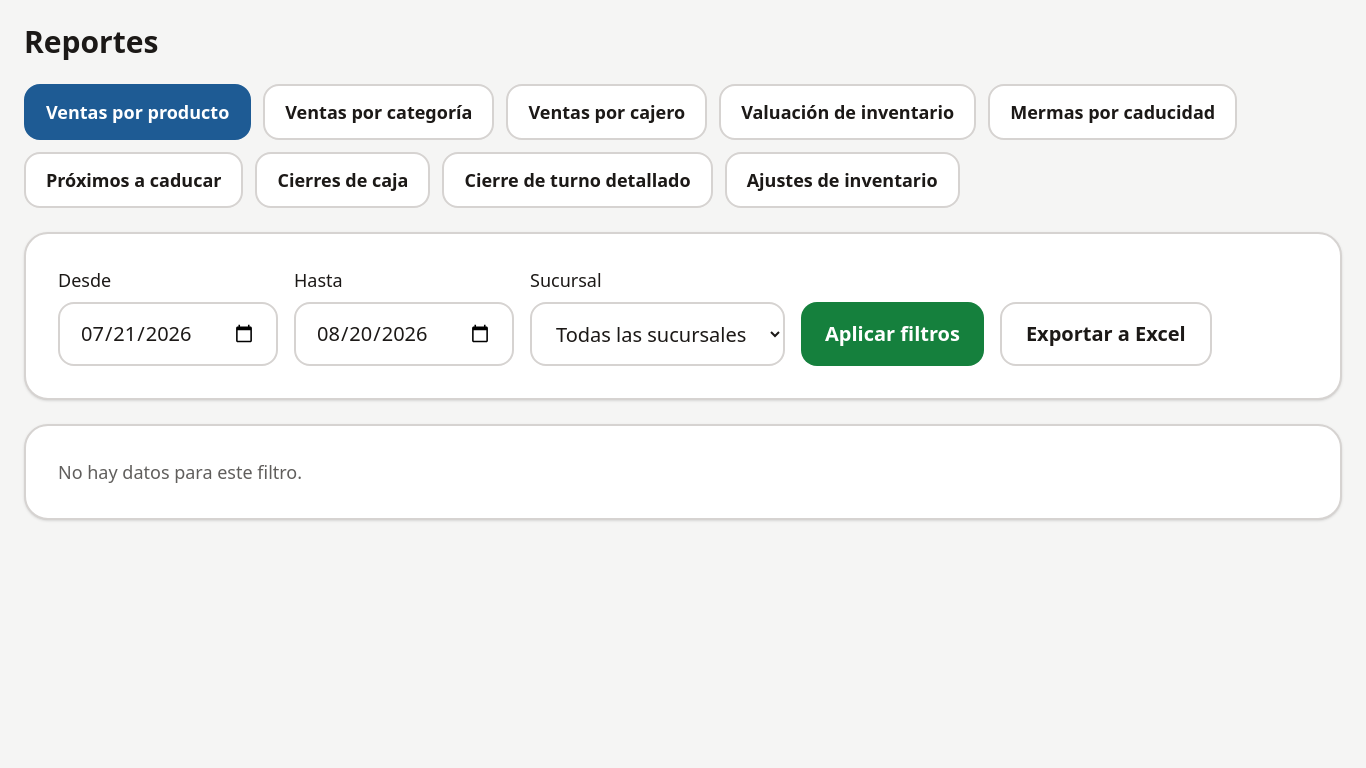
Test: ReportsScreen › punto 4: "Próximos a caducar" usa un filtro de días, no de fechas, y lo manda como query param
Expected: the text "No hay datos para este filtro." is shown, x1=58 y1=460 x2=302 y2=484
Click the button "Próximos a caducar": (134, 180) x1=24 y1=152 x2=243 y2=208
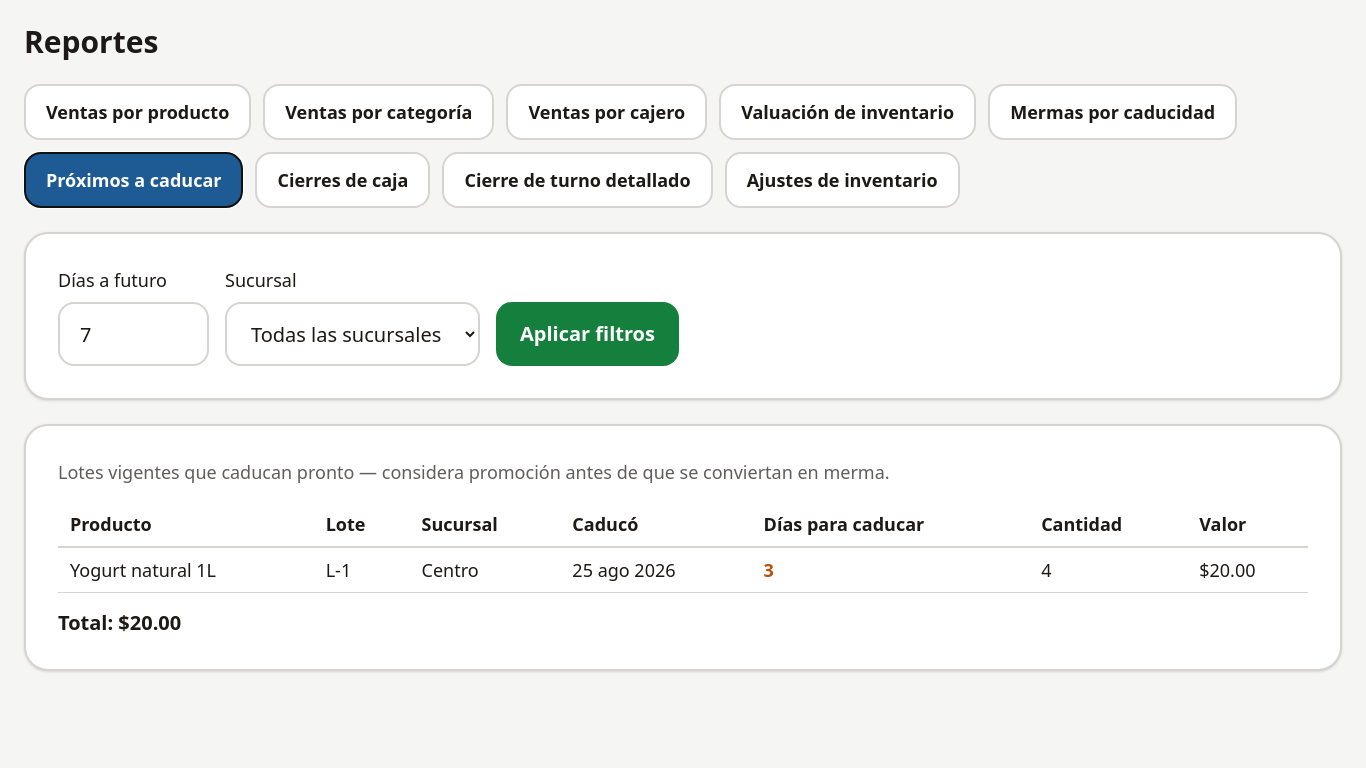
Expected: the text "Yogurt natural 1L" is shown, x1=58 y1=547 x2=314 y2=592
Expected: the label labelled "Desde" is gone
Expected: the number field labelled "Días a futuro" is shown, x1=58 y1=302 x2=209 y2=366
